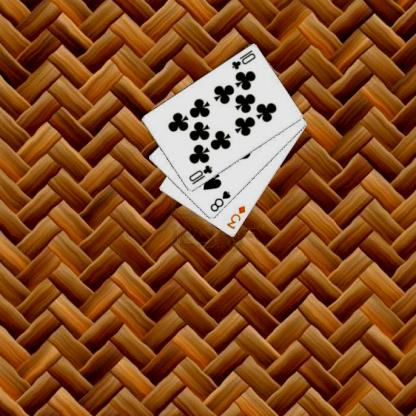10C: (229, 47, 257, 72), (186, 163, 214, 186)
3D: (224, 203, 247, 231)
8S: (208, 188, 232, 213)
